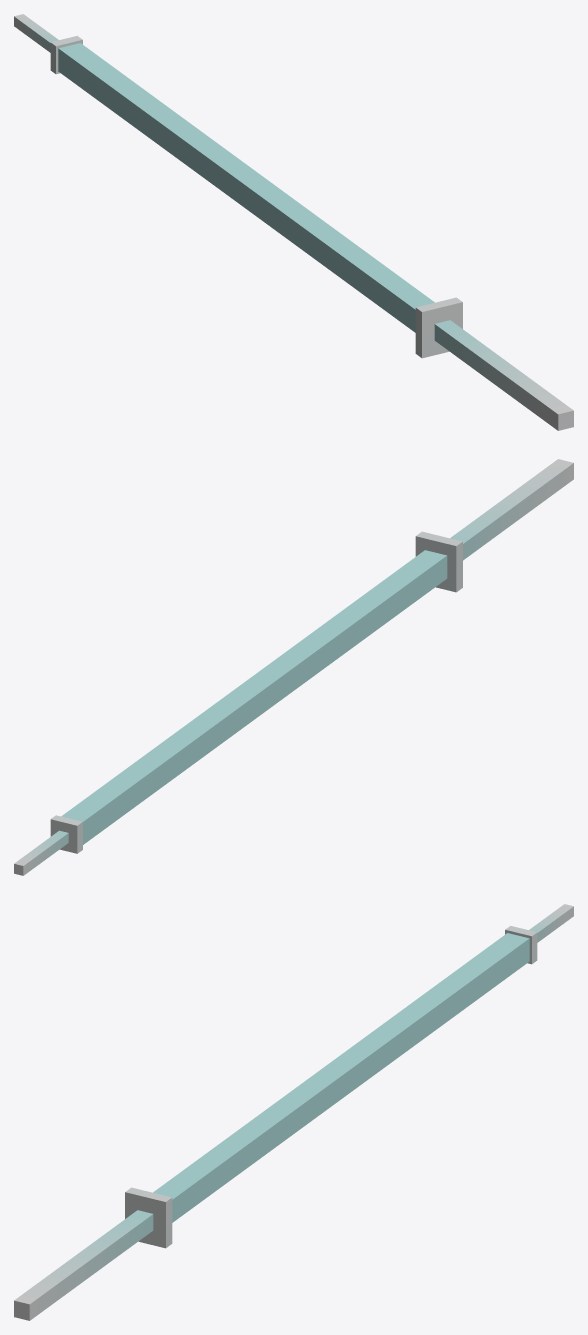
The picture shows the model from 3 angles, top to bottom: view 1: azimuth 30°, elevation 25°; view 2: azimuth 150°, elevation 25°; view 3: azimuth 330°, elevation 25°; orthographic projection.
Parts seen in each view (by area): view 1: main_shaft, long_extension, large_collar, short_tip; view 2: main_shaft, long_extension, large_collar, short_tip, small_collar; view 3: main_shaft, long_extension, large_collar, short_tip.
Part boxes in pixels (x1,y1,x2,y2): main_shaft: [58, 43, 434, 332]; long_extension: [434, 320, 573, 430]; large_collar: [415, 297, 462, 358]; short_tip: [14, 14, 58, 52]; main_shaft: [61, 550, 447, 844]; long_extension: [450, 459, 573, 560]; large_collar: [415, 531, 462, 592]; short_tip: [14, 830, 68, 875]; small_collar: [50, 815, 82, 853]; main_shaft: [153, 933, 529, 1222]; long_extension: [14, 1210, 153, 1320]; large_collar: [125, 1187, 172, 1248]; short_tip: [529, 904, 573, 942].
Size of the model in its own units: 0.0129 by 0.014 by 0.3.
